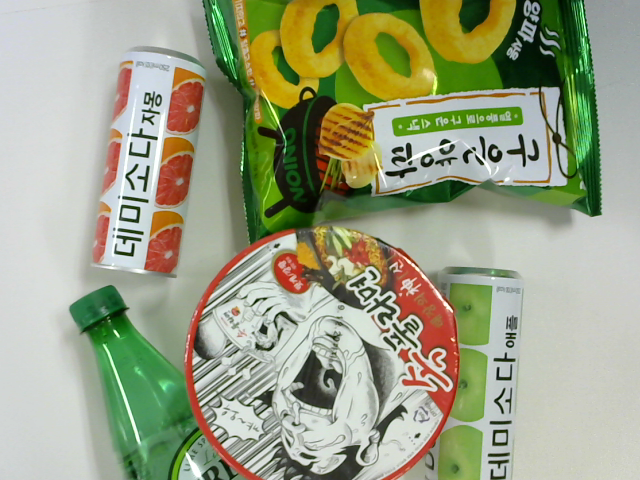Demisoda_Apple_Can_250ml: (421, 262, 531, 480)
Demisoda_Grapefruit_Can_250ml: (91, 52, 205, 277)
Grilled_Onions: (196, 1, 607, 230)
Hejangpul: (186, 212, 467, 480)
Treviraim_500ml: (66, 282, 247, 480)
